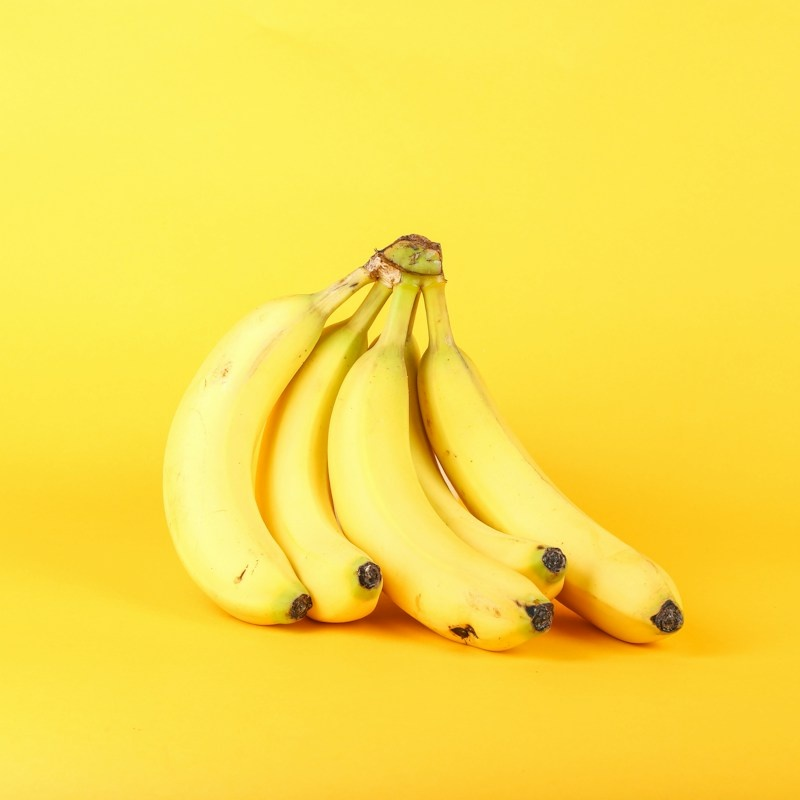banana peel: (153, 234, 675, 655)
